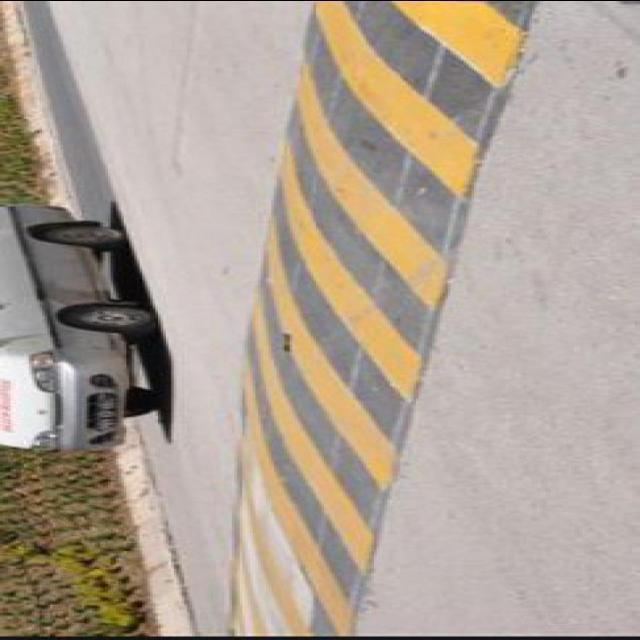speedbreaker: (213, 0, 543, 640)
